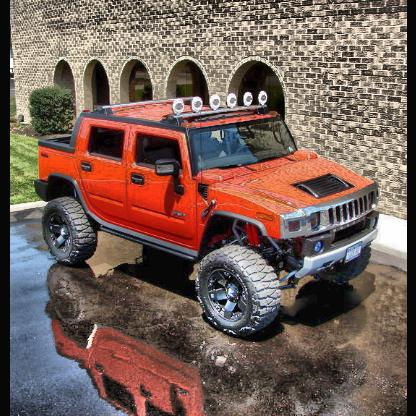HUMMER H2 SUT Crew Cab 2009: (34, 88, 381, 341)
